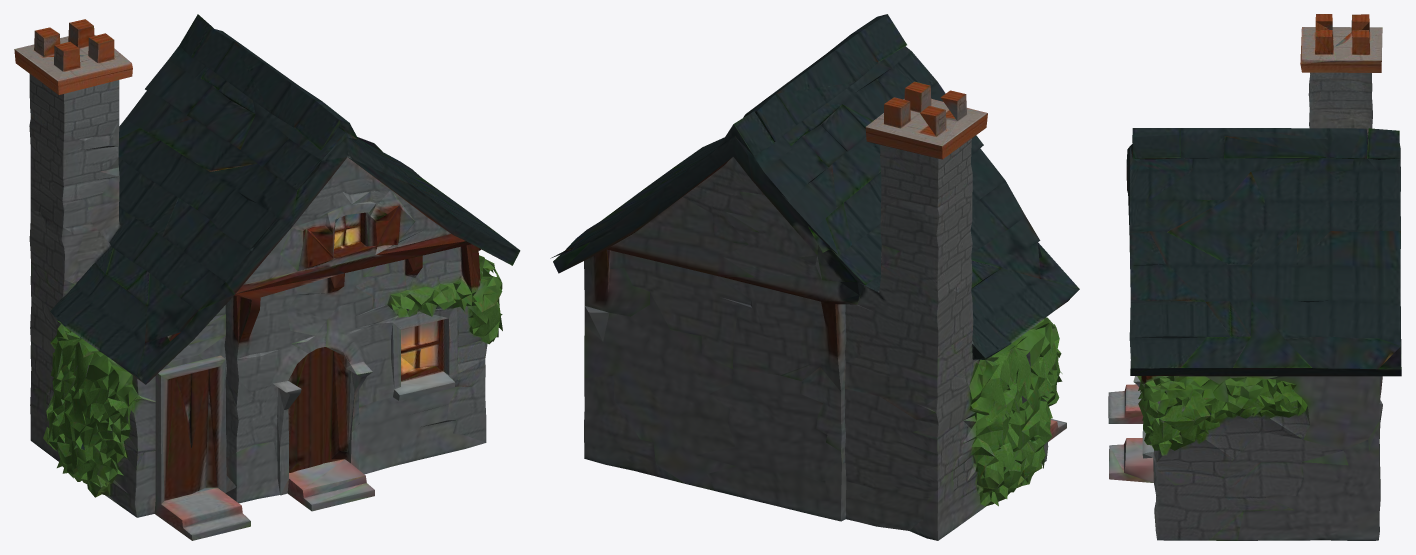
File: houseC.glb
3 views of the same model, side by side, from view 1: azimuth 30°, elevation 25°; view 2: azimuth 150°, elevation 25°; view 3: azimuth 270°, elevation 25° (orthographic). The views are drawn at different scales.
Parts seen in each view (by area): view 1: output_unwrapped; view 2: output_unwrapped; view 3: output_unwrapped.
Part boxes in pixels (x1,y1,x2,y2): output_unwrapped: (14,14,520,540); output_unwrapped: (550,14,1079,540); output_unwrapped: (1108,14,1401,540).
Bounding box in the file's own units: 1.88 × 1.9 × 1.34.
Materials: 1 (1 with a texture image).
